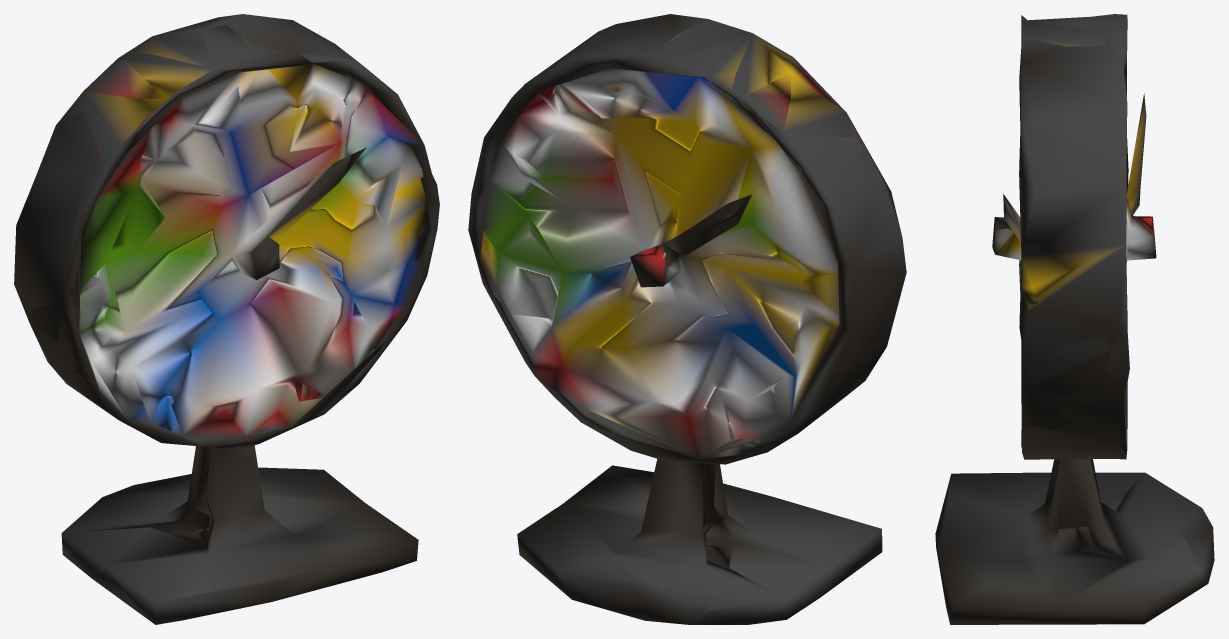
The model's file is gen3d-prize-wheel-lod1.glb.
3 views of the same model, side by side, from view 1: azimuth 30°, elevation 25°; view 2: azimuth 150°, elevation 25°; view 3: azimuth 270°, elevation 25° (orthographic). The views are drawn at different scales.
Visible parts, largest first — view 1: part_0; view 2: part_0; view 3: part_0.
Boxes of the visible parts, left/top/right/bottom form: part_0: left=14, top=14, right=439, bottom=624; part_0: left=468, top=14, right=906, bottom=624; part_0: left=935, top=14, right=1214, bottom=624.
Bounding box in the file's own units: 0.7702 × 0.9999 × 0.4802.
